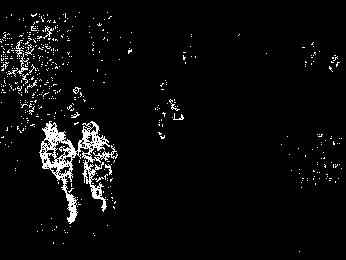person: (39, 120, 78, 226), (77, 119, 117, 212)
